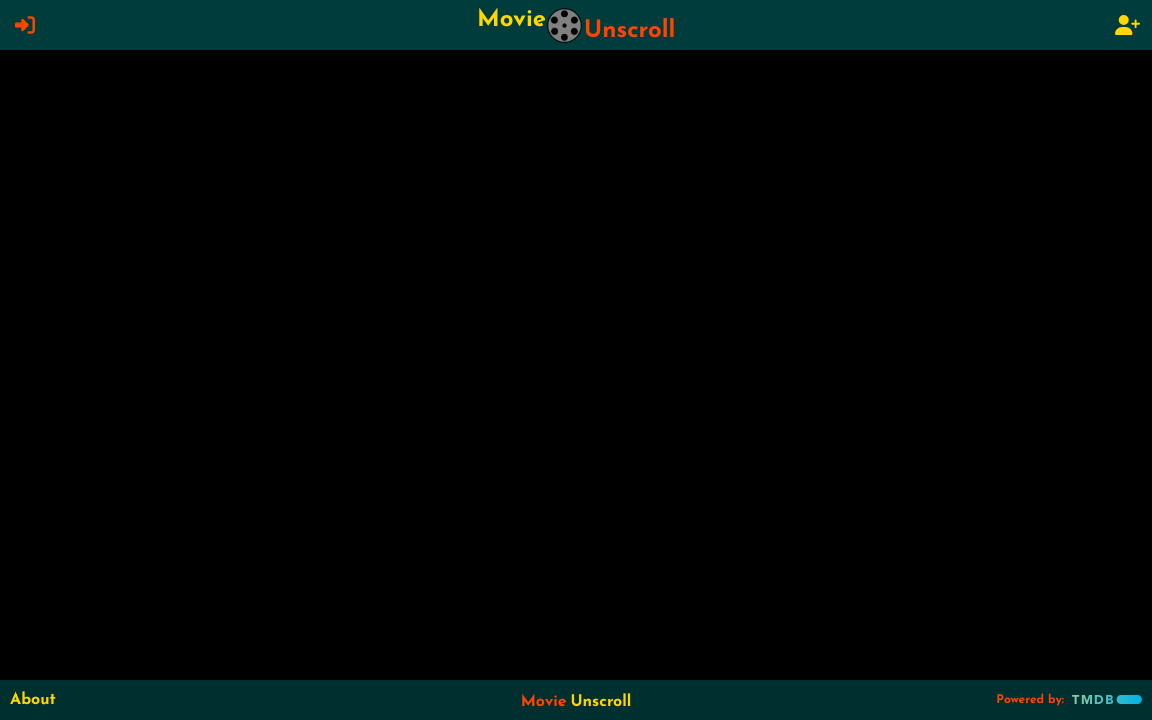
Testing login modal › shows modal after click
Click the element with test id "login" at [25, 25], box x1=0 y1=15 x2=50 y2=35
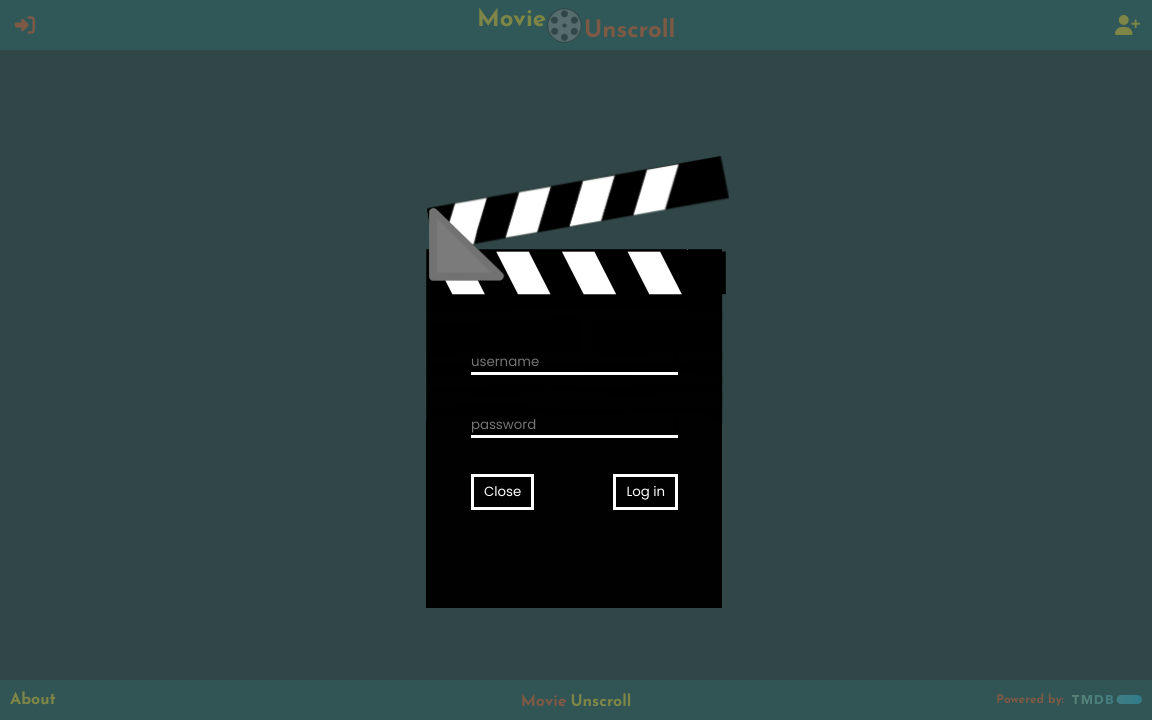
Check: the form is shown, box x1=471 y1=352 x2=678 y2=509
